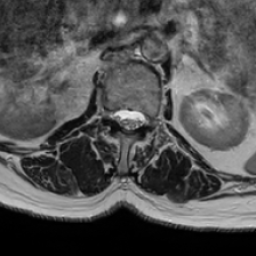CCS_normal: (124, 97, 133, 139)
LFS_normal: (144, 104, 155, 135)
LLS_normal: (133, 100, 144, 135)
RFS_normal: (103, 97, 113, 128)
RLS_normal: (113, 99, 124, 133)
